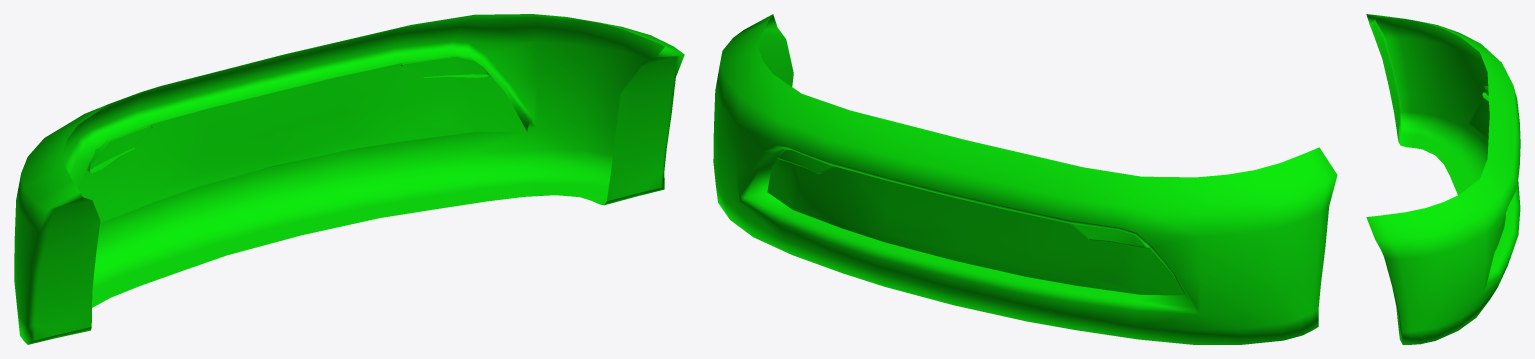
File: Accent_V3_Rear_Bumper.fbx
The picture shows the model from 3 angles, left to right: view 1: azimuth 30°, elevation 25°; view 2: azimuth 150°, elevation 25°; view 3: azimuth 270°, elevation 25°; orthographic projection. The views are drawn at different scales.
Visible parts, largest first — view 1: Accent_V3_Rear_Bumper; view 2: Accent_V3_Rear_Bumper; view 3: Accent_V3_Rear_Bumper.
Boxes of the visible parts, x1,y1,x2,y2 form: Accent_V3_Rear_Bumper: (14,14,684,344); Accent_V3_Rear_Bumper: (713,14,1337,344); Accent_V3_Rear_Bumper: (1366,14,1520,344).
Size of the model in its own units: 31.76 by 8.07 by 9.38.
